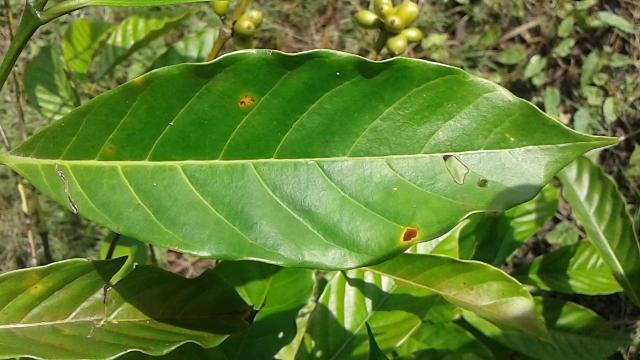rust_level_1: (4, 48, 622, 268)
